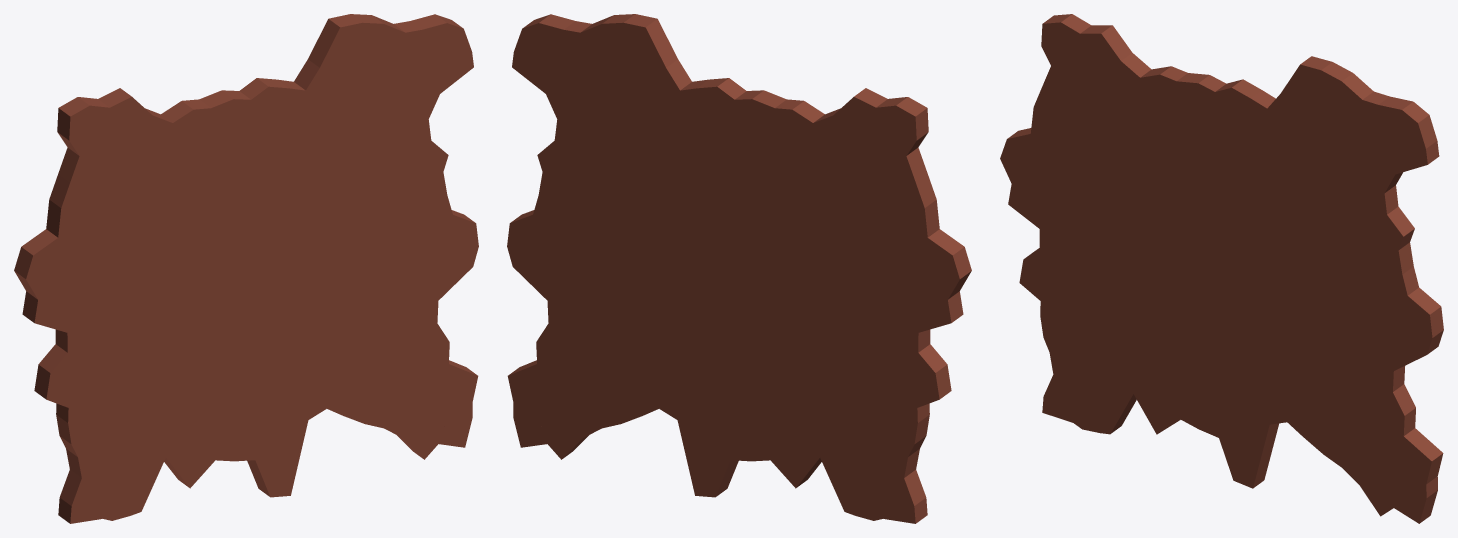
File: tile15.001.glb
3 renders of one model, left to right at view 1: azimuth 30°, elevation 25°; view 2: azimuth 150°, elevation 25°; view 3: azimuth 330°, elevation 25°, orthographic. The views are drawn at different scales.
Parts seen in each view (by area): view 1: 15.001; view 2: 15.001; view 3: 15.001.
Boxes of the visible parts, <box> form: 15.001: <box>14,14,478,523</box>; 15.001: <box>507,14,971,523</box>; 15.001: <box>1000,14,1443,523</box>.
Size of the model in its own units: 2.18 by 2.1 by 0.1.
1 material, 1 textured.
